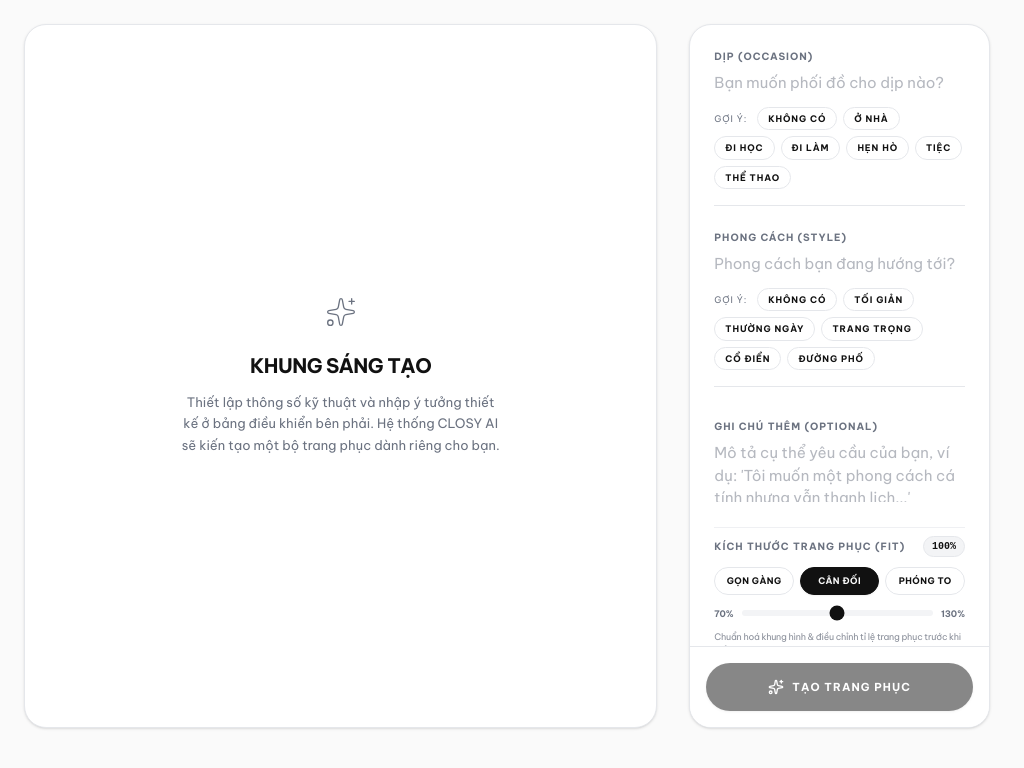
AI stylist recommendation card › keeps the AI explanation collapsed behind a chevron toggle by default
Click the button "Đi làm" at (810, 148), box [780,136,840,160]
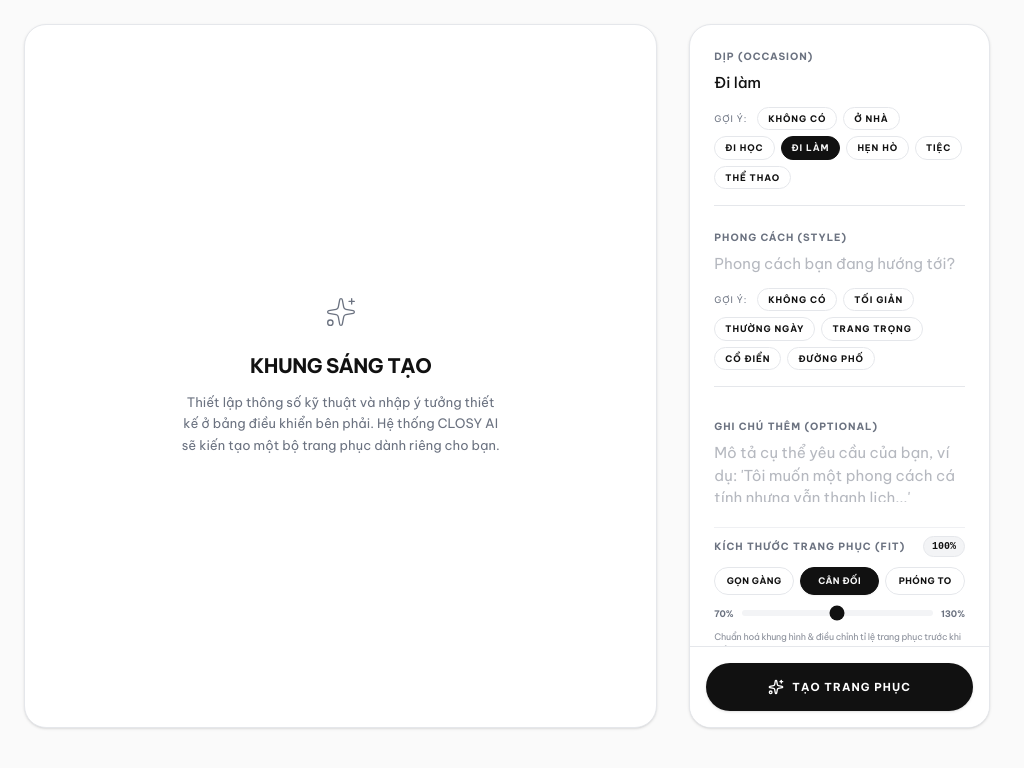
Click the button "TẠO TRANG PHỤC" at (840, 687), box [706,662,973,711]
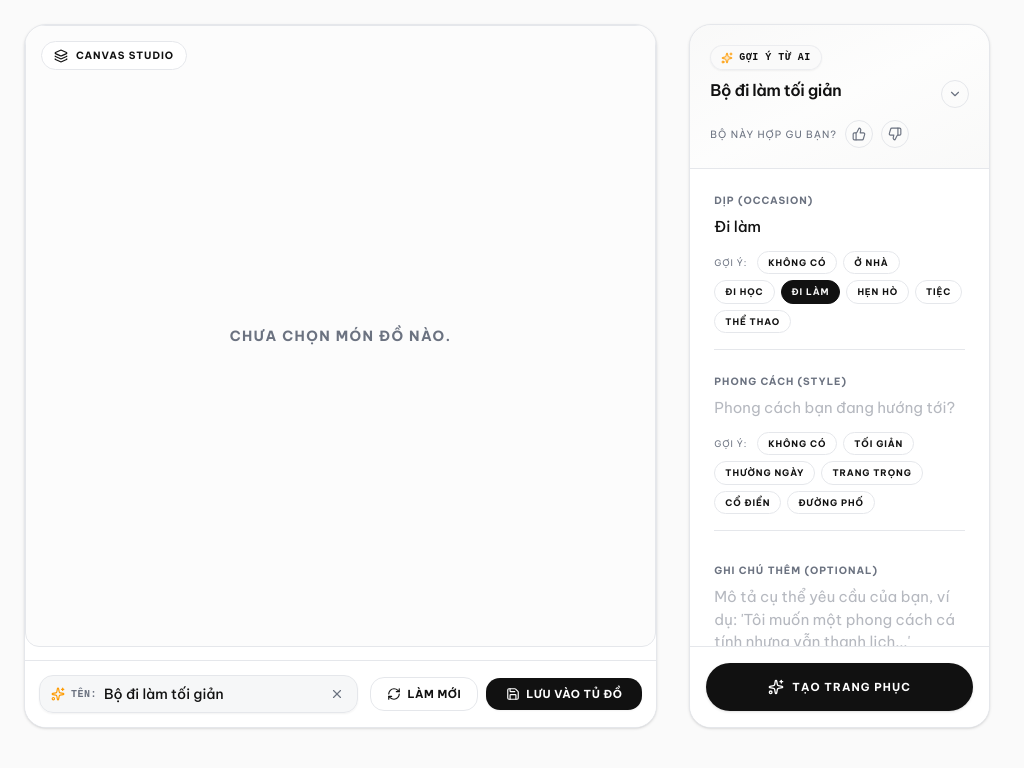
Expected: the text "Vì bạn thích phong cách tối giản" is not shown
Expected: the heading "Bộ đi làm tối giản" is shown, [710,78,841,102]
Click the button named "Xem lý do gợi ý" at (955, 94), box [941,80,969,108]
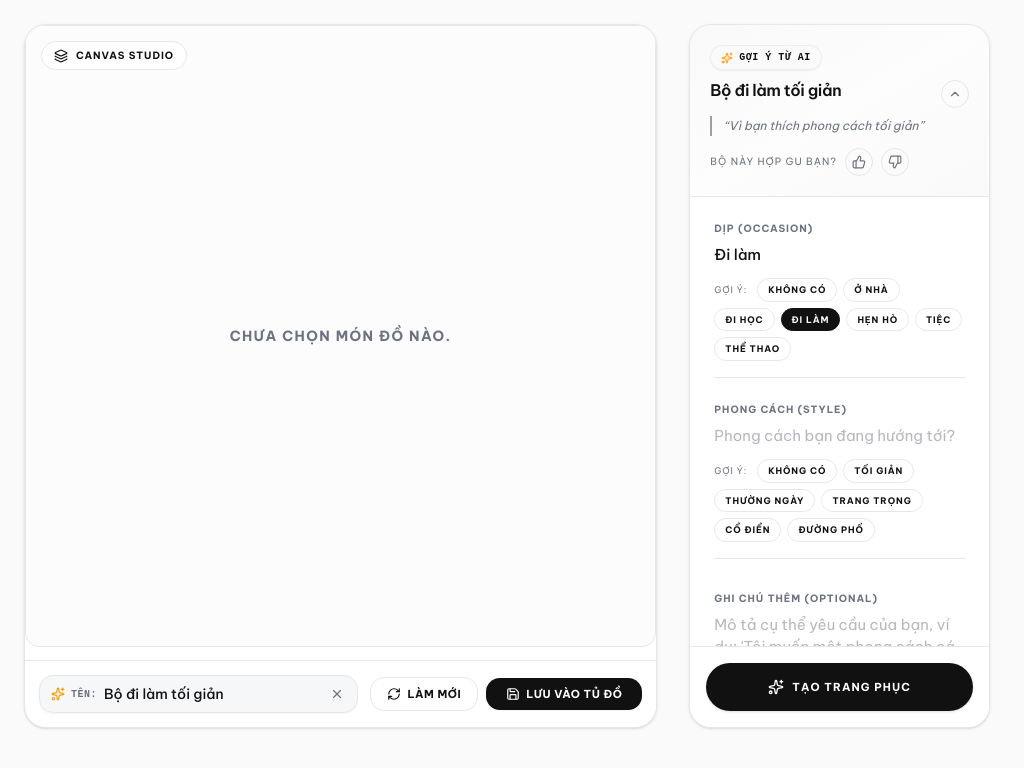
Expected: the text "“Vì bạn thích phong cách tối giản”" is shown, [710,116,969,136]
Click the button named "Thu gọn lý do gợi ý" at (955, 94), box [941,80,969,108]
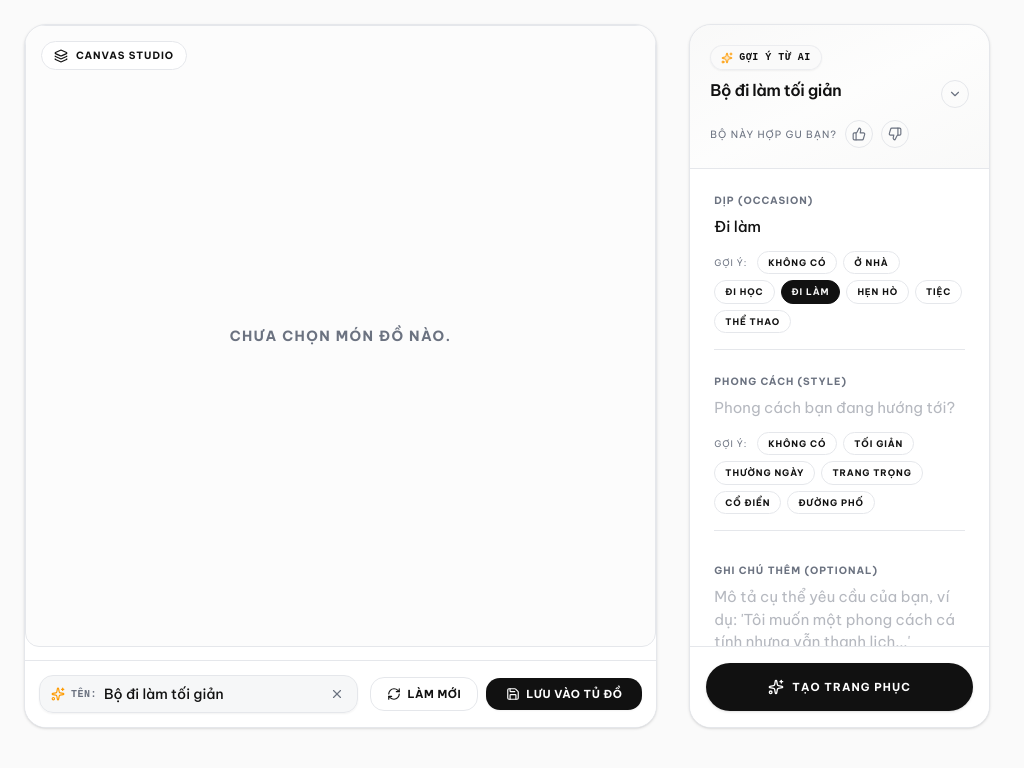
Expected: the text "Vì bạn thích phong cách tối giản" is gone
